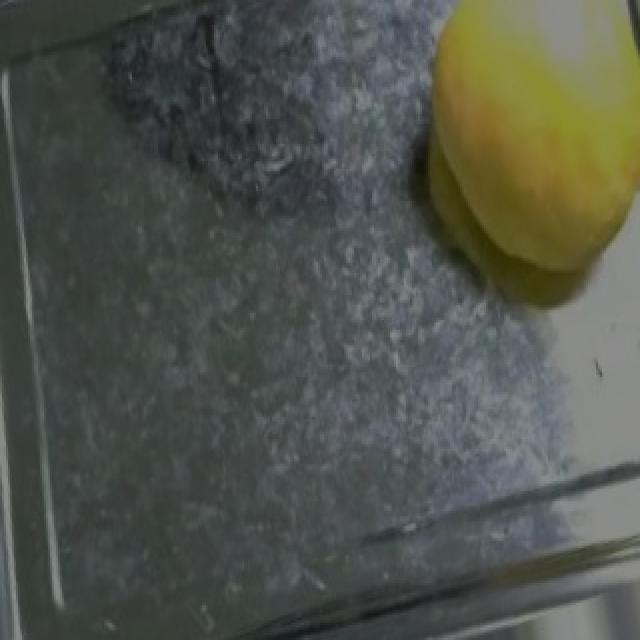fruit: (378, 0, 640, 320)
